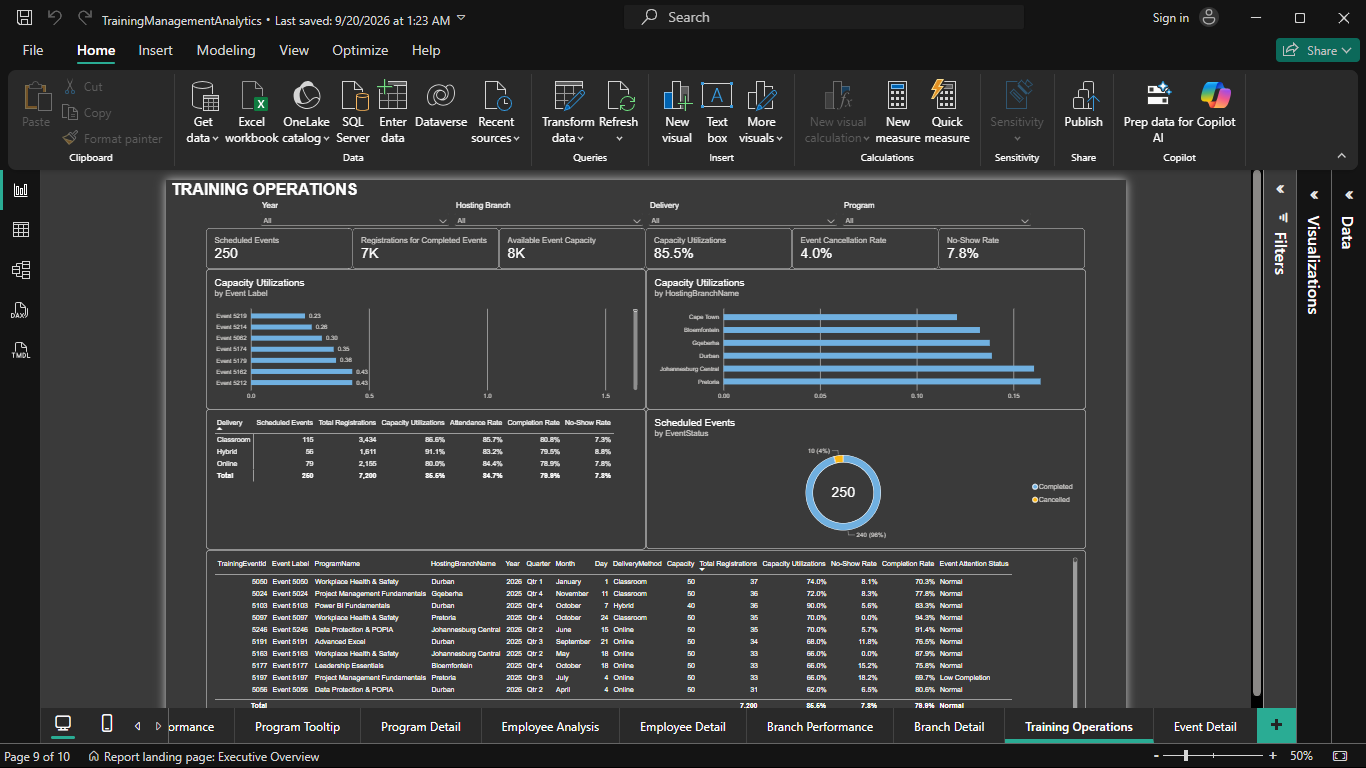

What the dashboard file says about the page in this screenshot:
{"tool":"powerbi","page":{"name":"Training Operations","canvas":[1920,1080],"ordinal":8},"visuals":[{"type":"textbox","box":[10,0,387.5,42.5],"z":0},{"type":"slicer","fields":{"Values":["DimDate.Year"]},"box":[184,42,387.8,53.3],"z":0,"group":"g1"},{"type":"group","id":"g1","title":"Group 1","box":[184,42,1552,54],"z":1000},{"type":"slicer","fields":{"Values":["DimHostingBranch.HostingBranchName"]},"box":[572,42,388,54],"z":1000,"group":"g1"},{"type":"slicer","fields":{"Values":["DimTrainingEvent.DeliveryMethod"]},"box":[960,42,388,54],"z":2000,"group":"g1"},{"type":"cardVisual","fields":{"Data":["FactTraining.Scheduled Events","FactTraining.Registrations for Completed Events","FactTraining.Available Event Capacity","FactTraining.Capacity Utilizations","FactTraining.Event Cancellation Rate","FactTraining.No-Show Rate"]},"box":[80,95,1760,82.5],"z":2000},{"type":"slicer","fields":{"Values":["DimProgram.ProgramName"]},"box":[1348,42,388,54],"z":3000,"group":"g1"},{"type":"clusteredBarChart","fields":{"Category":["DimTrainingEvent.Event Label"],"Y":["FactTraining.Capacity Utilizations"]},"box":[80,177.8,880,281.1],"z":3000},{"type":"clusteredBarChart","fields":{"Category":["DimHostingBranch.HostingBranchName"],"Y":["FactTraining.Capacity Utilizations"]},"box":[960,177.8,880,281.1],"z":4000},{"type":"pivotTable","fields":{"Rows":["DimTrainingEvent.DeliveryMethod"],"Values":["FactTraining.Scheduled Events","FactTraining.Total Registrations","FactTraining.Capacity Utilizations","FactTraining.Attendance Rate","FactTraining.Completion Rate","FactTraining.No-Show Rate"]},"box":[80,458.9,880,281.1],"z":5000},{"type":"donutChart","fields":{"Category":["DimTrainingEvent.EventStatus"],"Y":["FactTraining.Scheduled Events"]},"box":[960,458.9,880,280],"z":6000},{"type":"tableEx","fields":{"Values":["DimTrainingEvent.TrainingEventId","DimTrainingEvent.Event Label","DimProgram.ProgramName","DimHostingBranch.HostingBranchName","DimTrainingEvent.EventStartDate.Variation.Date Hierarchy.Year","DimTrainingEvent.EventStartDate.Variation.Date Hierarchy.Quarter","DimTrainingEvent.EventStartDate.Variation.Date Hierarchy.Month","DimTrainingEvent.EventStartDate.Variation.Date Hierarchy.Day","DimTrainingEvent.DeliveryMethod","DimTrainingEvent.Capacity","FactTraining.Total Registrations","FactTraining.Capacity Utilizations"]},"box":[80,740,1760,340],"z":7000}]}

Visuals, with their boxes on the page's 1920x1080 design canvas (x1, y1, x2, y2). These are canvas units, not pixel positions in the 1366x768 screenshot, which may show the page scaled, cropped or inside an application window:
textbox: Rect(10, 0, 398, 42)
slicer - DimDate.Year: Rect(184, 42, 572, 95)
"Group 1" group: Rect(184, 42, 1736, 96)
slicer - DimHostingBranch.HostingBranchName: Rect(572, 42, 960, 96)
slicer - DimTrainingEvent.DeliveryMethod: Rect(960, 42, 1348, 96)
cardVisual - FactTraining.Scheduled Events x FactTraining.Registrations for Completed Events: Rect(80, 95, 1840, 178)
slicer - DimProgram.ProgramName: Rect(1348, 42, 1736, 96)
clusteredBarChart - DimTrainingEvent.Event Label x FactTraining.Capacity Utilizations: Rect(80, 178, 960, 459)
clusteredBarChart - DimHostingBranch.HostingBranchName x FactTraining.Capacity Utilizations: Rect(960, 178, 1840, 459)
pivotTable - DimTrainingEvent.DeliveryMethod x FactTraining.Scheduled Events: Rect(80, 459, 960, 740)
donutChart - DimTrainingEvent.EventStatus x FactTraining.Scheduled Events: Rect(960, 459, 1840, 739)
tableEx - DimTrainingEvent.TrainingEventId x DimTrainingEvent.Event Label: Rect(80, 740, 1840, 1080)
